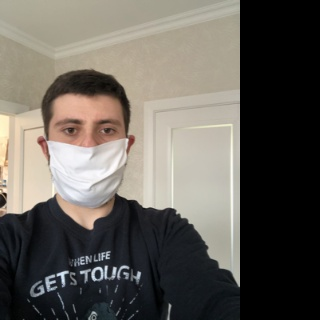with_mask: (48, 108, 131, 208)
